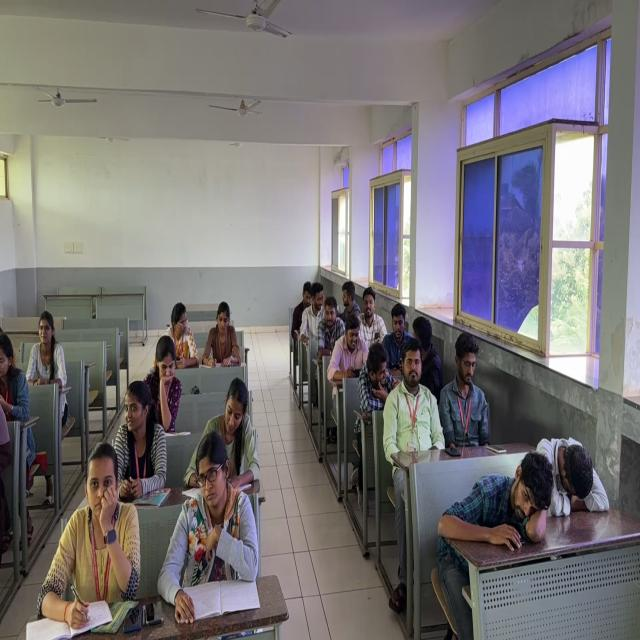Reading: (158, 429, 262, 626)
Sleeping: (440, 450, 552, 640), (524, 407, 622, 532), (353, 337, 396, 505)
Using Phone: (325, 309, 367, 452), (161, 303, 201, 369)
Writing: (37, 442, 140, 628), (182, 378, 260, 496), (114, 379, 169, 497), (143, 334, 187, 430), (202, 302, 242, 366)
